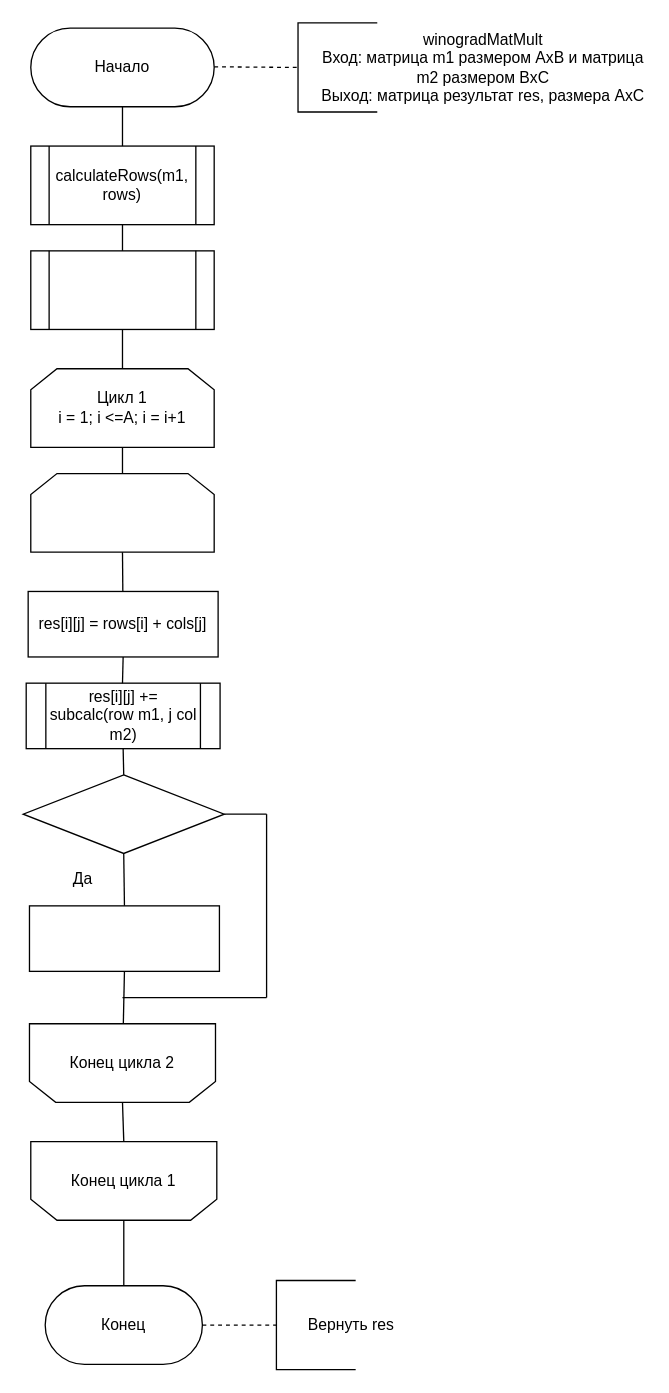
The diagram is 669 pixels wide and 1393 high, and some of its shapes have lost their labels. Here are the shapes that lost their labels. From the top down, the centre of each, then its label:
At point 121,289: "calculateCols(m2, cols)".
At point 121,512: "Цикл 2 j = 1; j <=C; j = j+1".
At point 123,813: "B - нечётное?".
At point 123,938: "res[i][j] += m1[i][b] * m2[b][j]".
